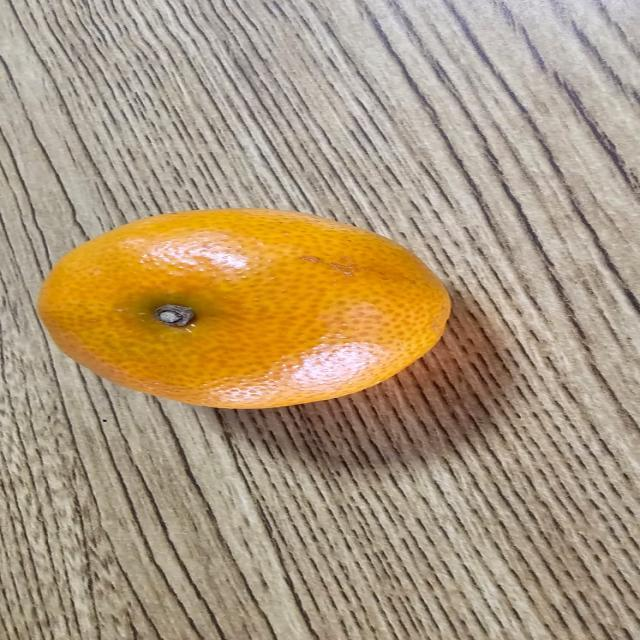Jeruk Mandarin: (26, 201, 460, 416)
